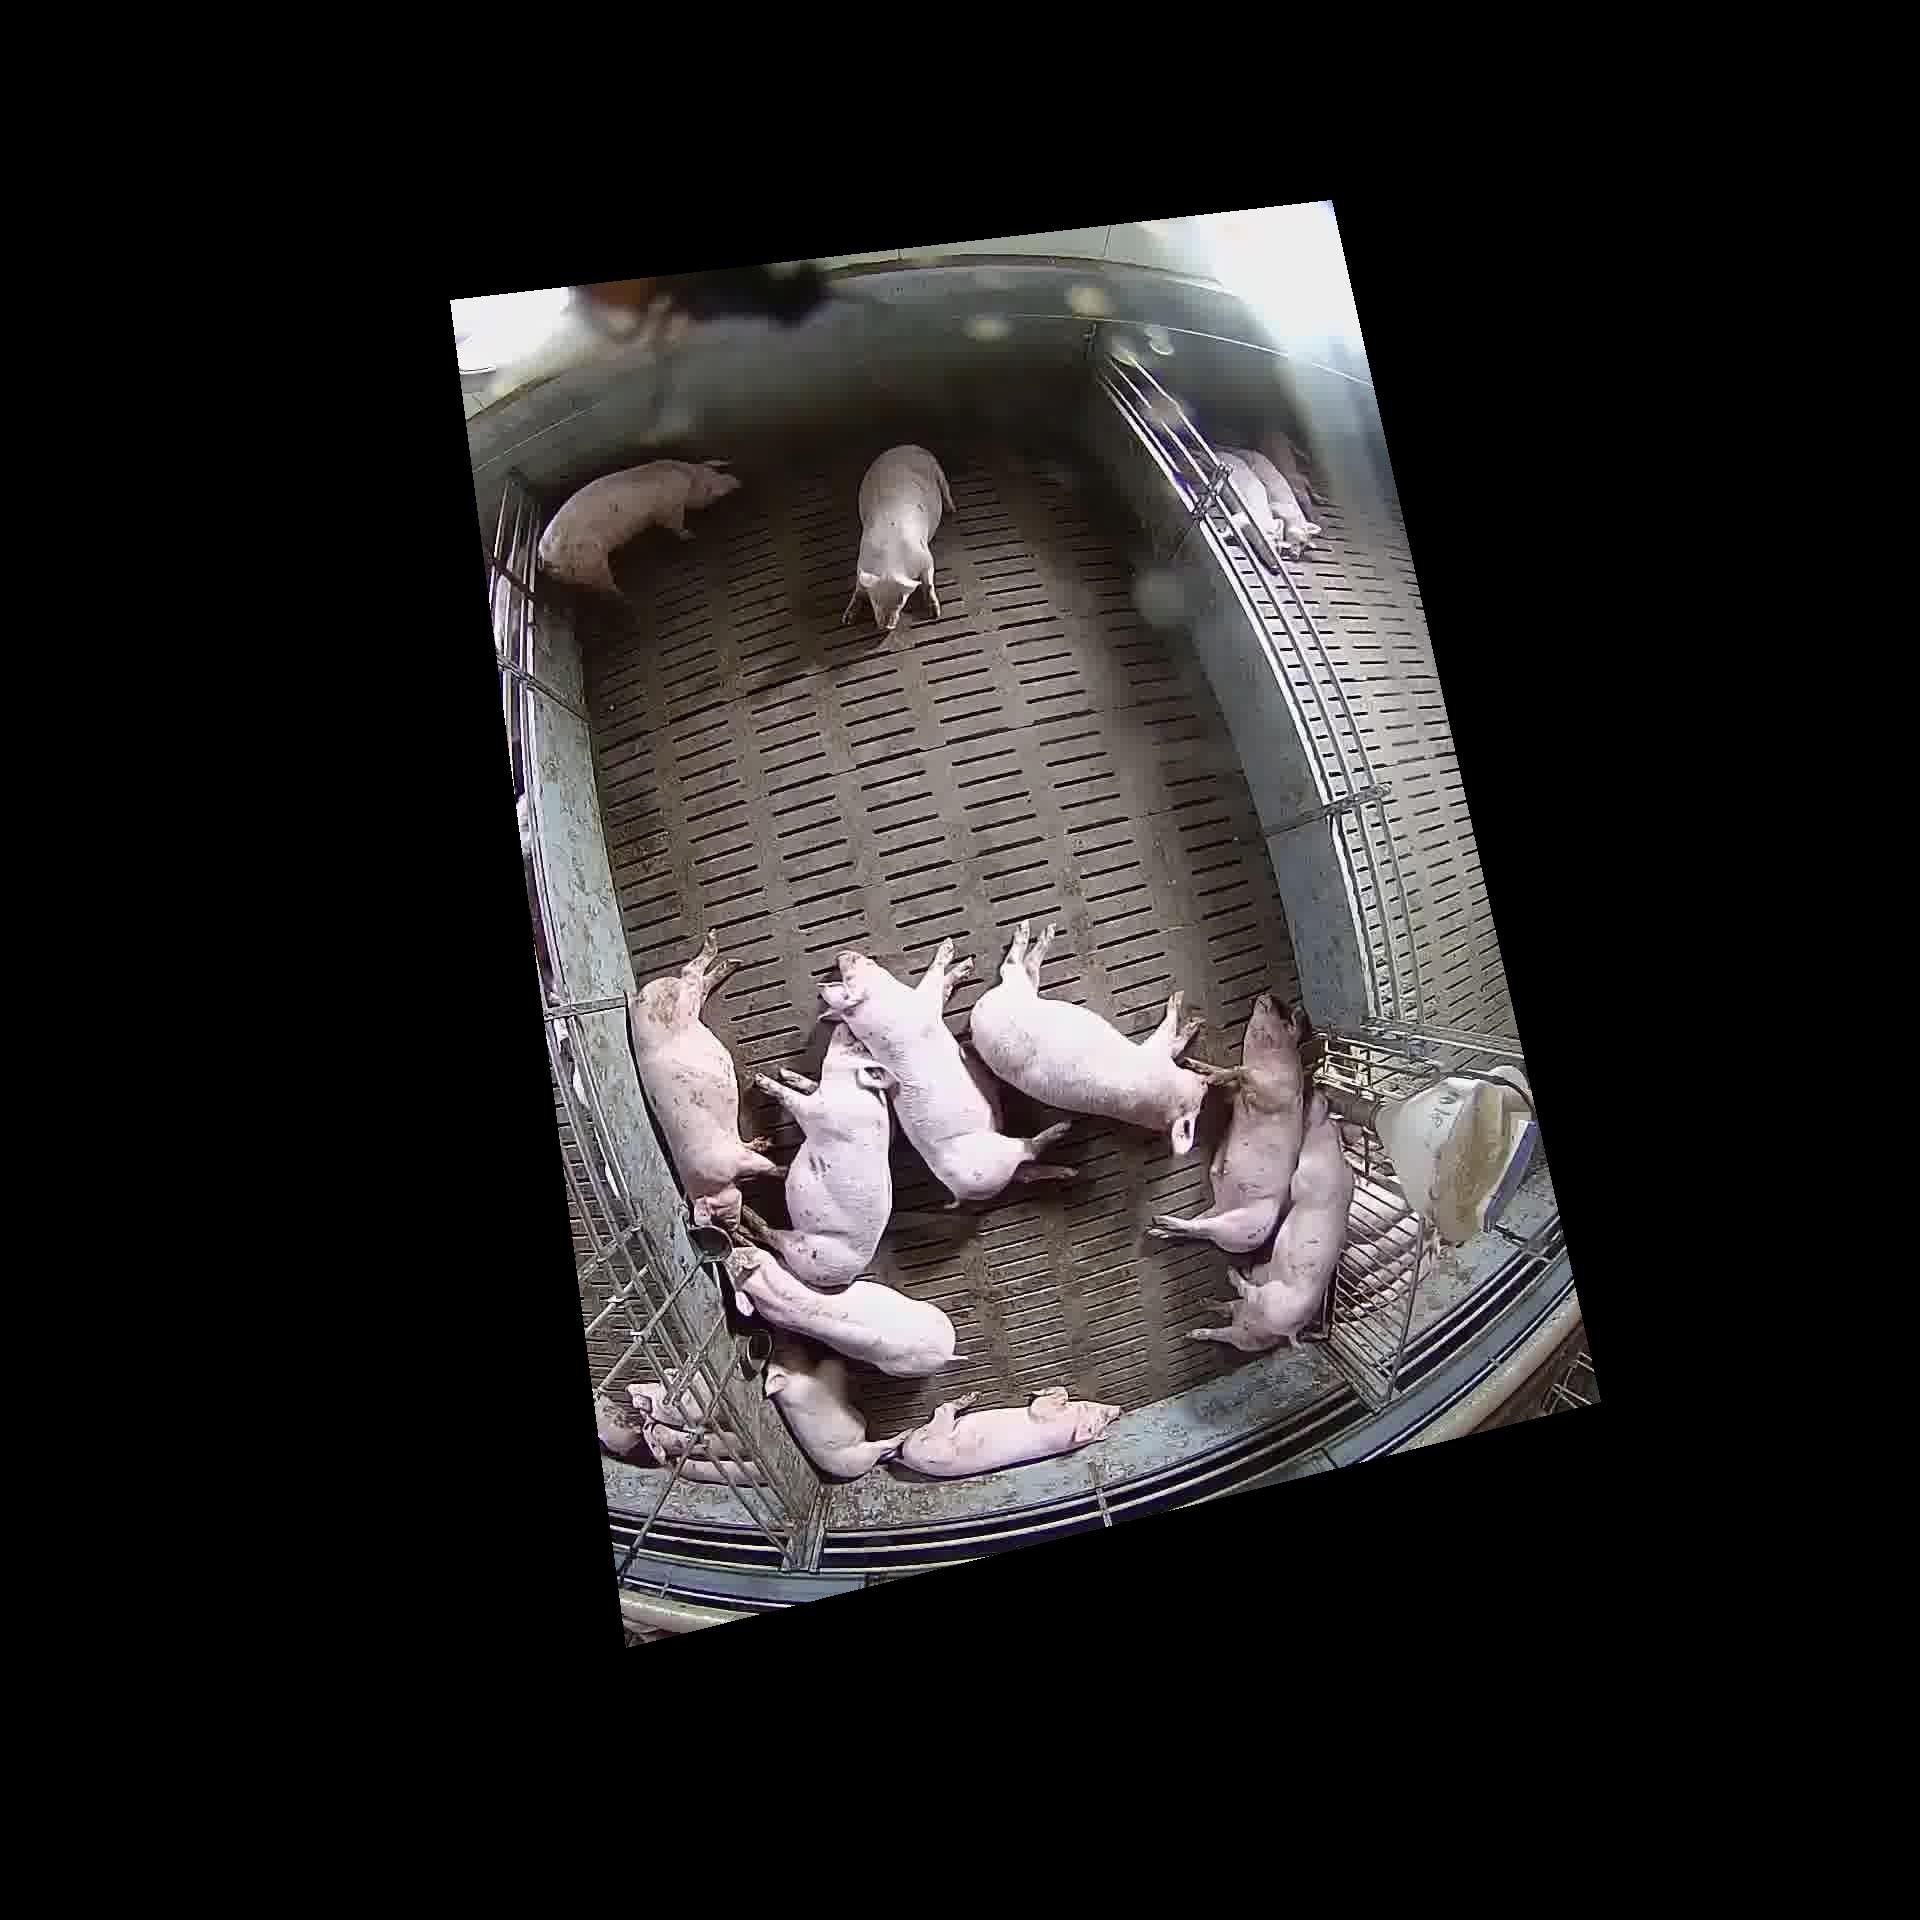pig: (818, 937, 1078, 1210), (960, 916, 1208, 1155), (624, 927, 788, 1231), (1183, 1092, 1352, 1352), (738, 1023, 898, 1287), (1146, 993, 1306, 1254), (723, 1233, 969, 1377), (538, 459, 742, 598), (842, 445, 956, 629), (763, 1340, 914, 1477), (893, 1385, 1120, 1477)
